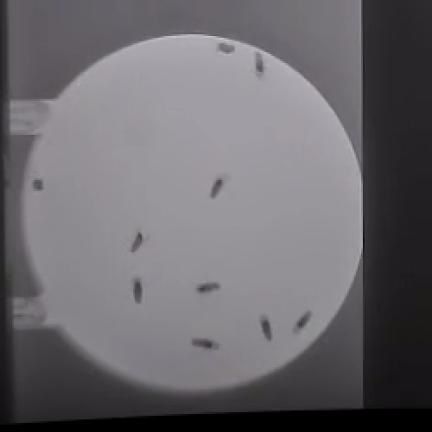fly: (211, 177, 228, 199), (294, 312, 312, 332), (260, 315, 273, 340), (132, 233, 148, 253), (192, 339, 219, 350), (197, 283, 221, 293), (134, 278, 143, 304), (256, 53, 264, 77), (218, 42, 235, 53), (33, 179, 43, 190)
